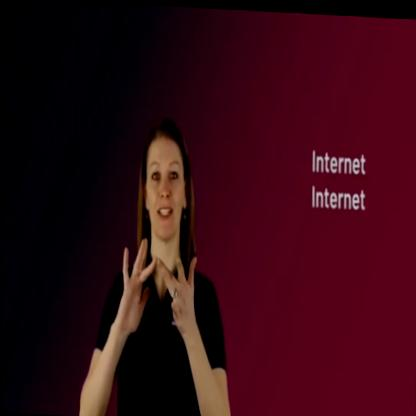Internet: (119, 233, 207, 348)
